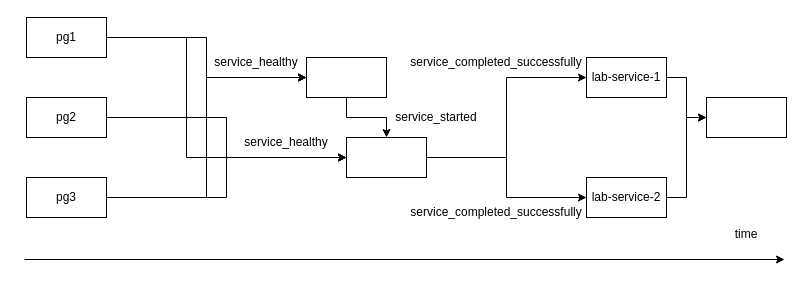
Some shapes in this 810 by 285 pixel diagram are drawn without their labels. The shapes that lost their labels are listed below. From the top down, each one's centre as x and y in pixels, then its label:
At (346,77): "pgcat".
At (746,117): "nginx".
At (386,157): "lab-db-setup".
